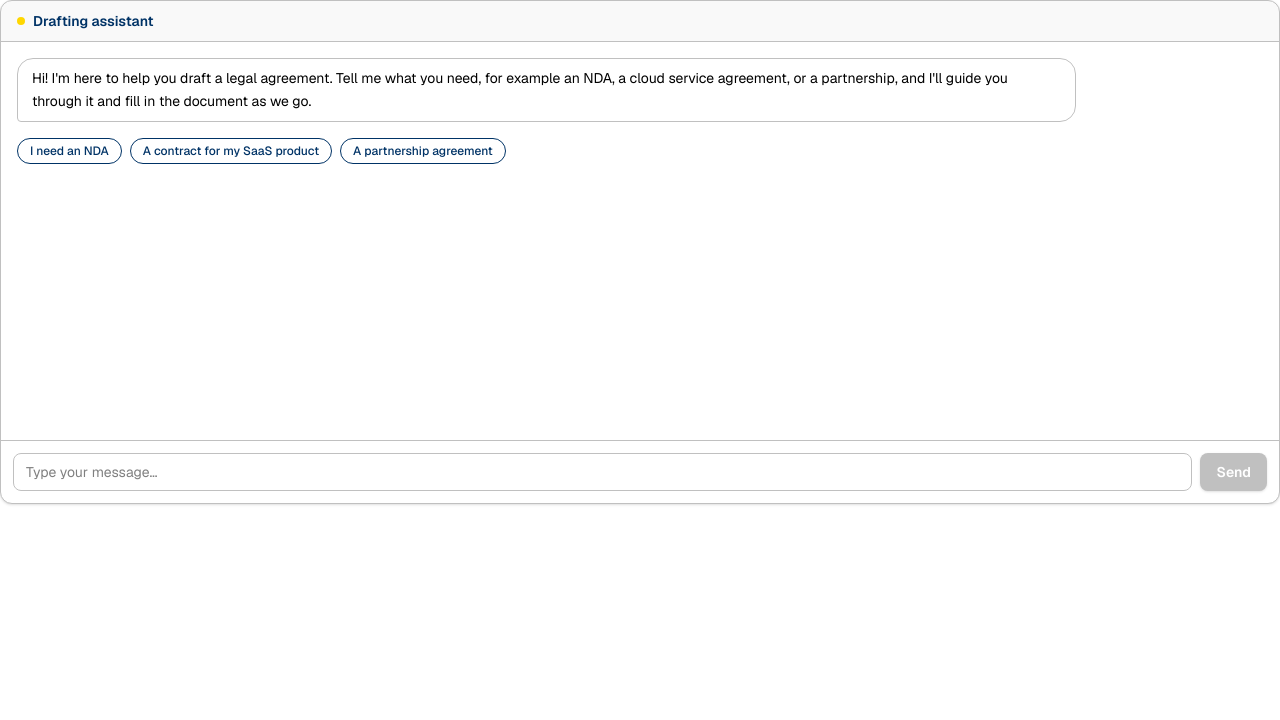
Scenario: ChatPanel › shows a friendly error when the network fails
Type "hello" into the field labelled "message" at (603, 472), box 13,453 -> 1192,491
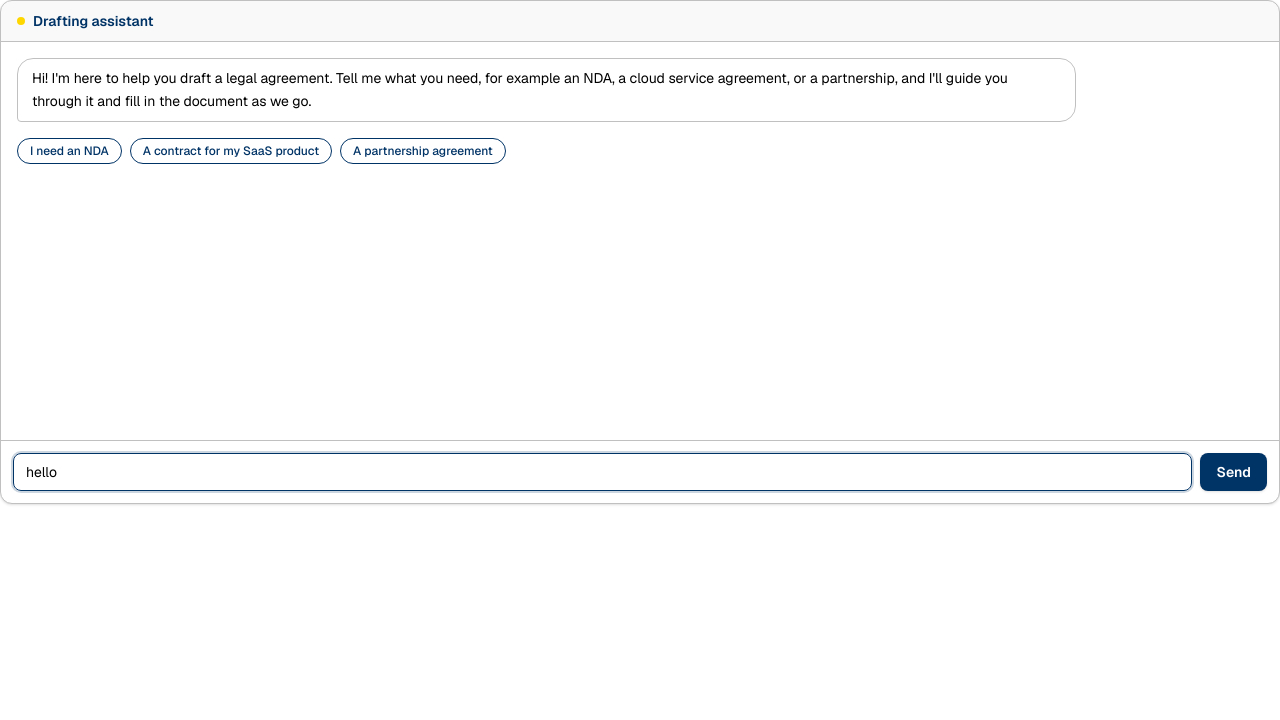
Click the button "Send" at (1234, 472), box 1200,453 -> 1267,491
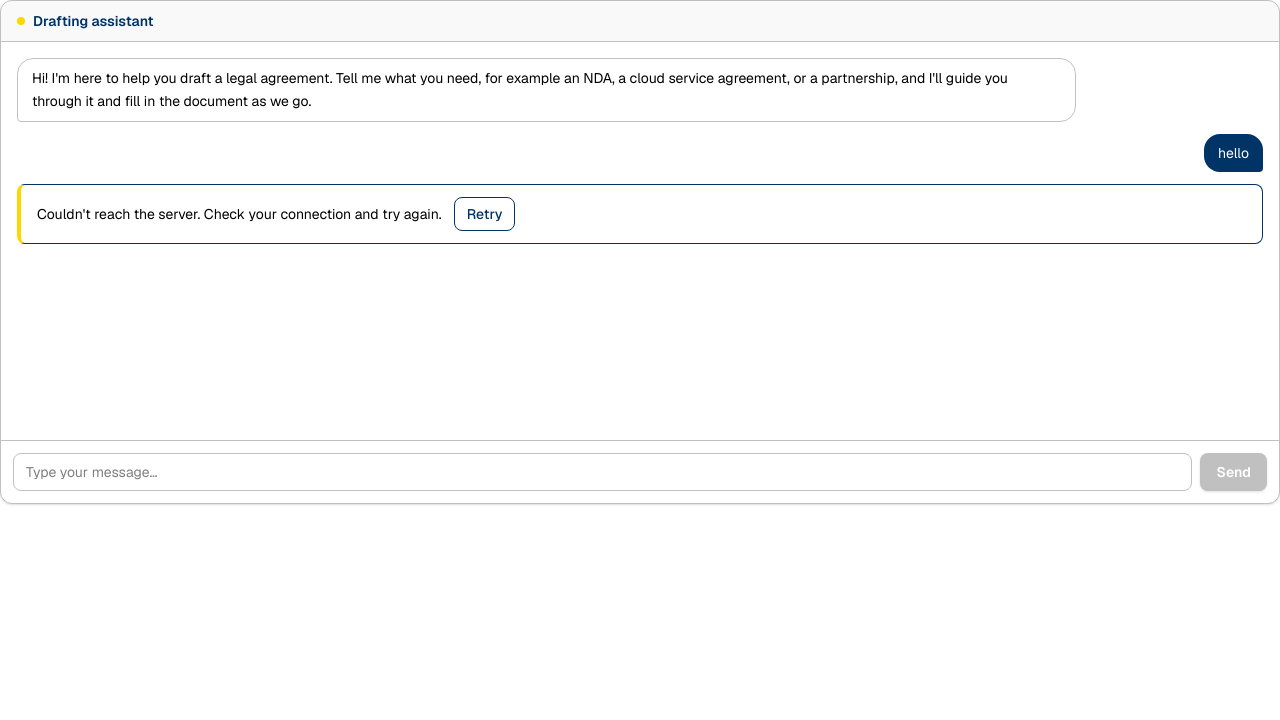
Expected: the message shows "Couldn't reach the server", 37,205 -> 442,223
